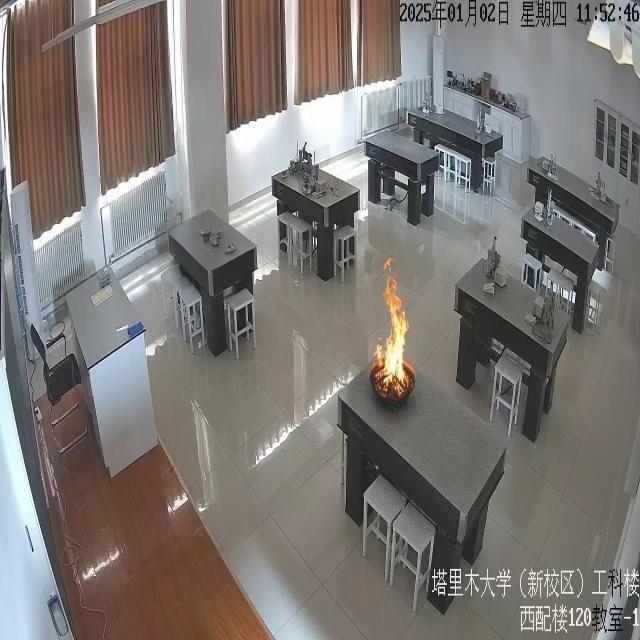smoke: (371, 261, 414, 400)
